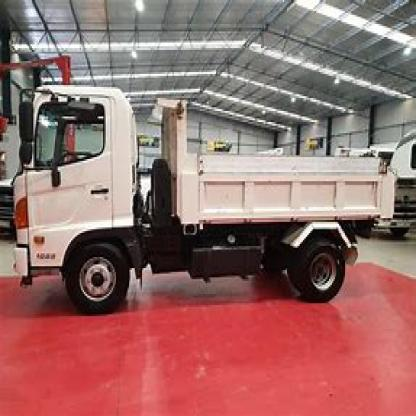dump_truck: (13, 59, 415, 335)
